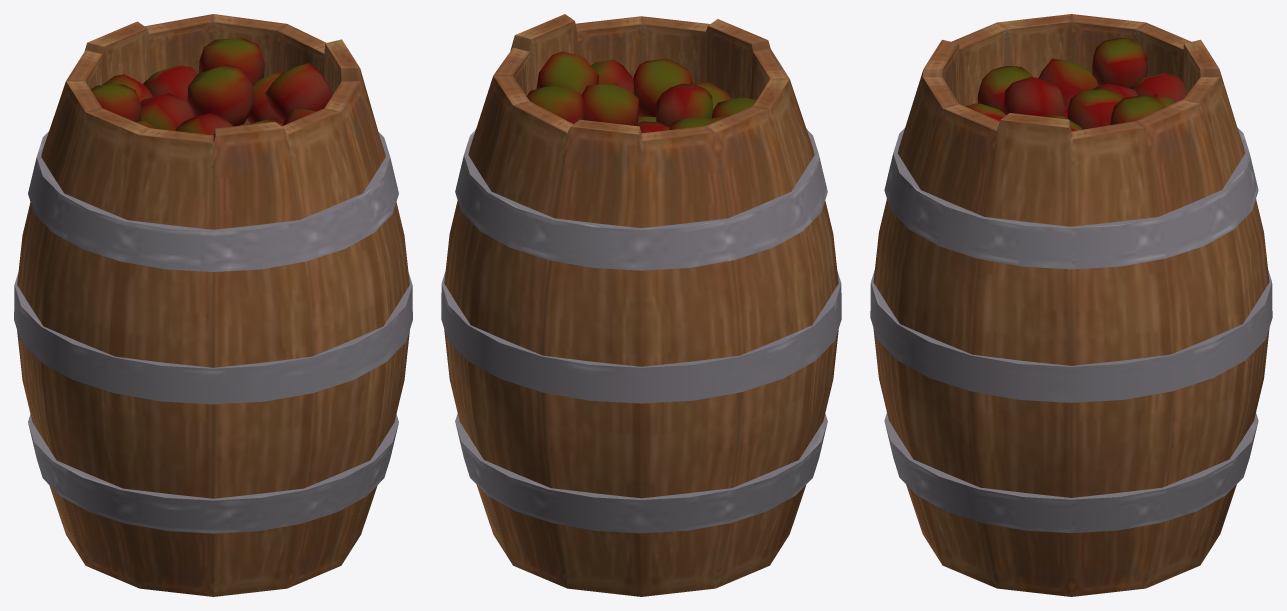
Rendered from Barrel_Apples.glb.
3 views of the same model, side by side, from view 1: azimuth 30°, elevation 25°; view 2: azimuth 150°, elevation 25°; view 3: azimuth 270°, elevation 25° (orthographic).
Visible parts, largest first — view 1: Barrel_Apples; view 2: Barrel_Apples; view 3: Barrel_Apples.
Part boxes in pixels (bbox=[...]): Barrel_Apples: bbox=[14, 14, 412, 596]; Barrel_Apples: bbox=[441, 14, 841, 596]; Barrel_Apples: bbox=[870, 14, 1272, 596].
Bounding box in the file's own units: 0.698 × 0.898 × 0.698.
3 materials, 3 textured.
